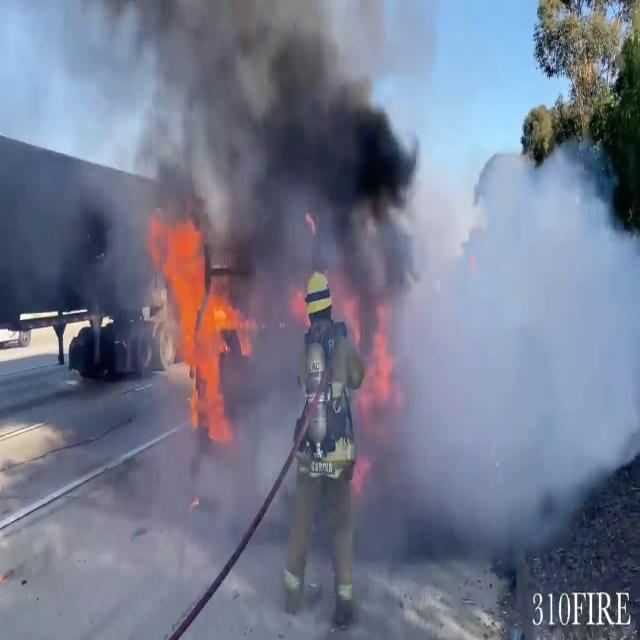Fire: (150, 208, 246, 434)
Smoke: (382, 117, 640, 538), (68, 0, 429, 249)
